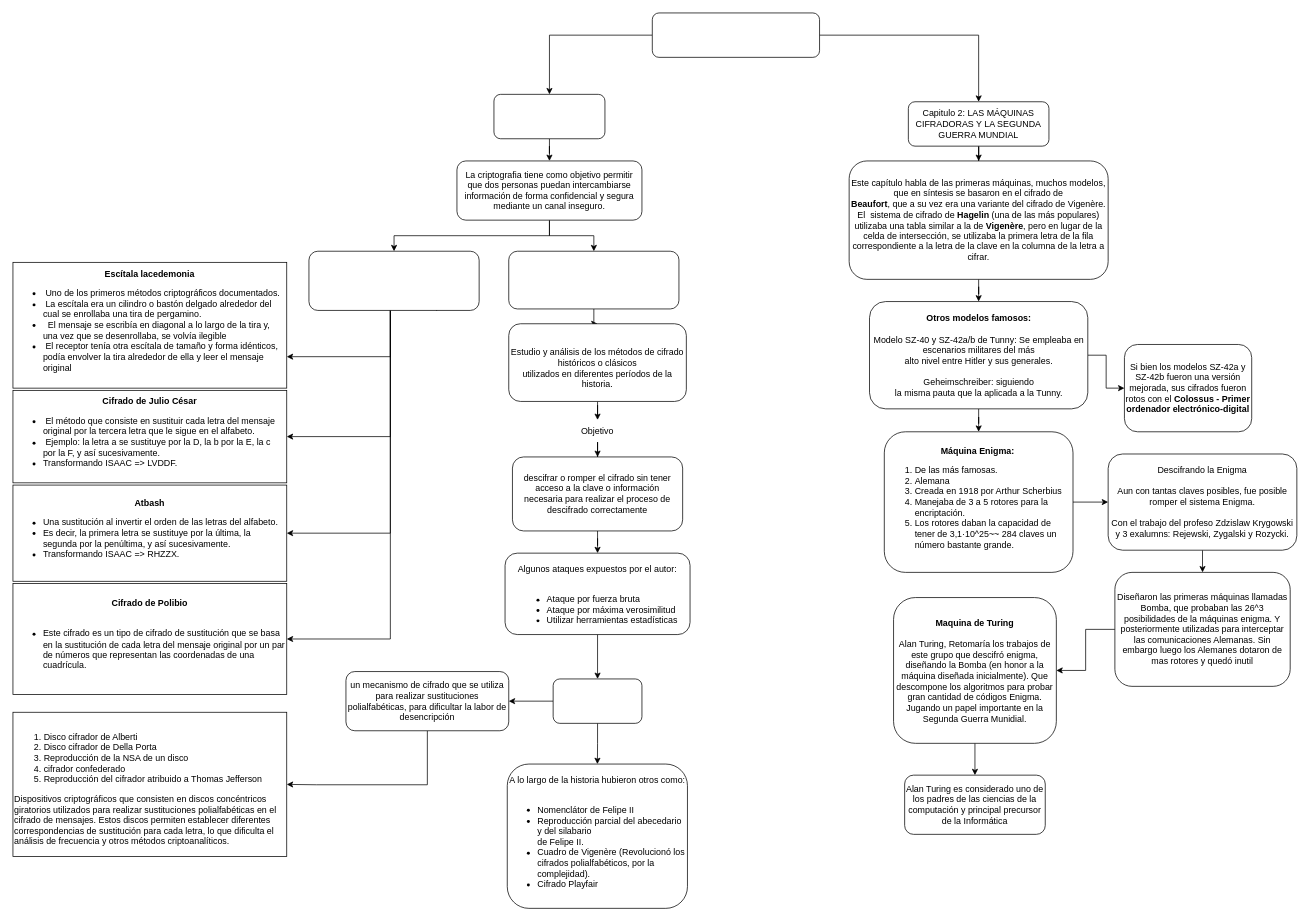
Image size: 1310x921. Some labels were removed from this diagram. Here are the shapes that lost their labels. From the top down, the centre of each, then its label:
At [736,34]: "La evolución de los métodos criptográficos".
At [549,116]: "Capitulo 1: CRIPTOGRAFÍA CLÁSICA".
At [393,280]: "1. Algunos de los métodos que se han utilizado a lo largo de los años.".
At [593,279]: "2. Criptoanálisis de los sistemas clásicos".
At [597,700]: "Cifradores de rotación".
